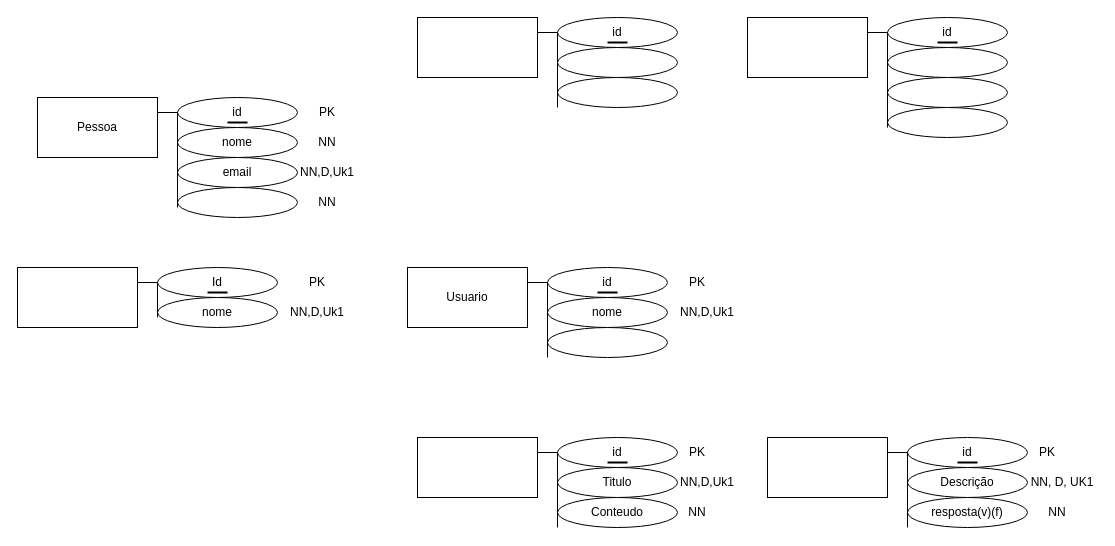
This 1115x546 diagram has some shape labels left out. The shapes that lost their labels are listed below. From the top down, each one's box as (x1, y1, x2, y2) in pixels, then its label:
(176, 186, 298, 218): senha
(16, 266, 138, 328): Administrador
(546, 326, 668, 358): pontuação
(416, 436, 538, 498): Carta
(766, 436, 888, 498): Pergunta
